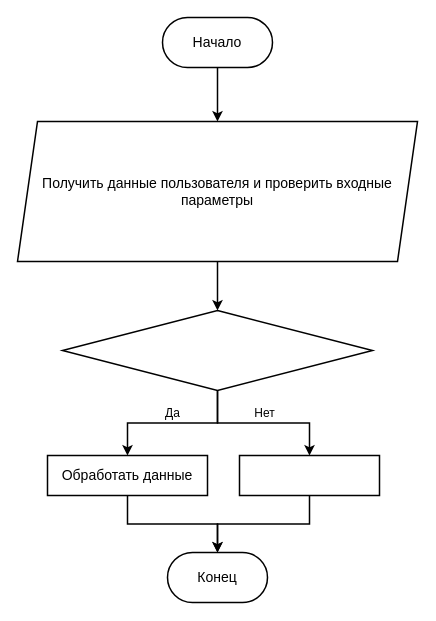
This 436x621 diagram has some shape labels left out. Each missing label, with the centre of its shape:
"Данные корректны?" belongs at point 217,350.
"Показать ошибку" belongs at point 309,475.
